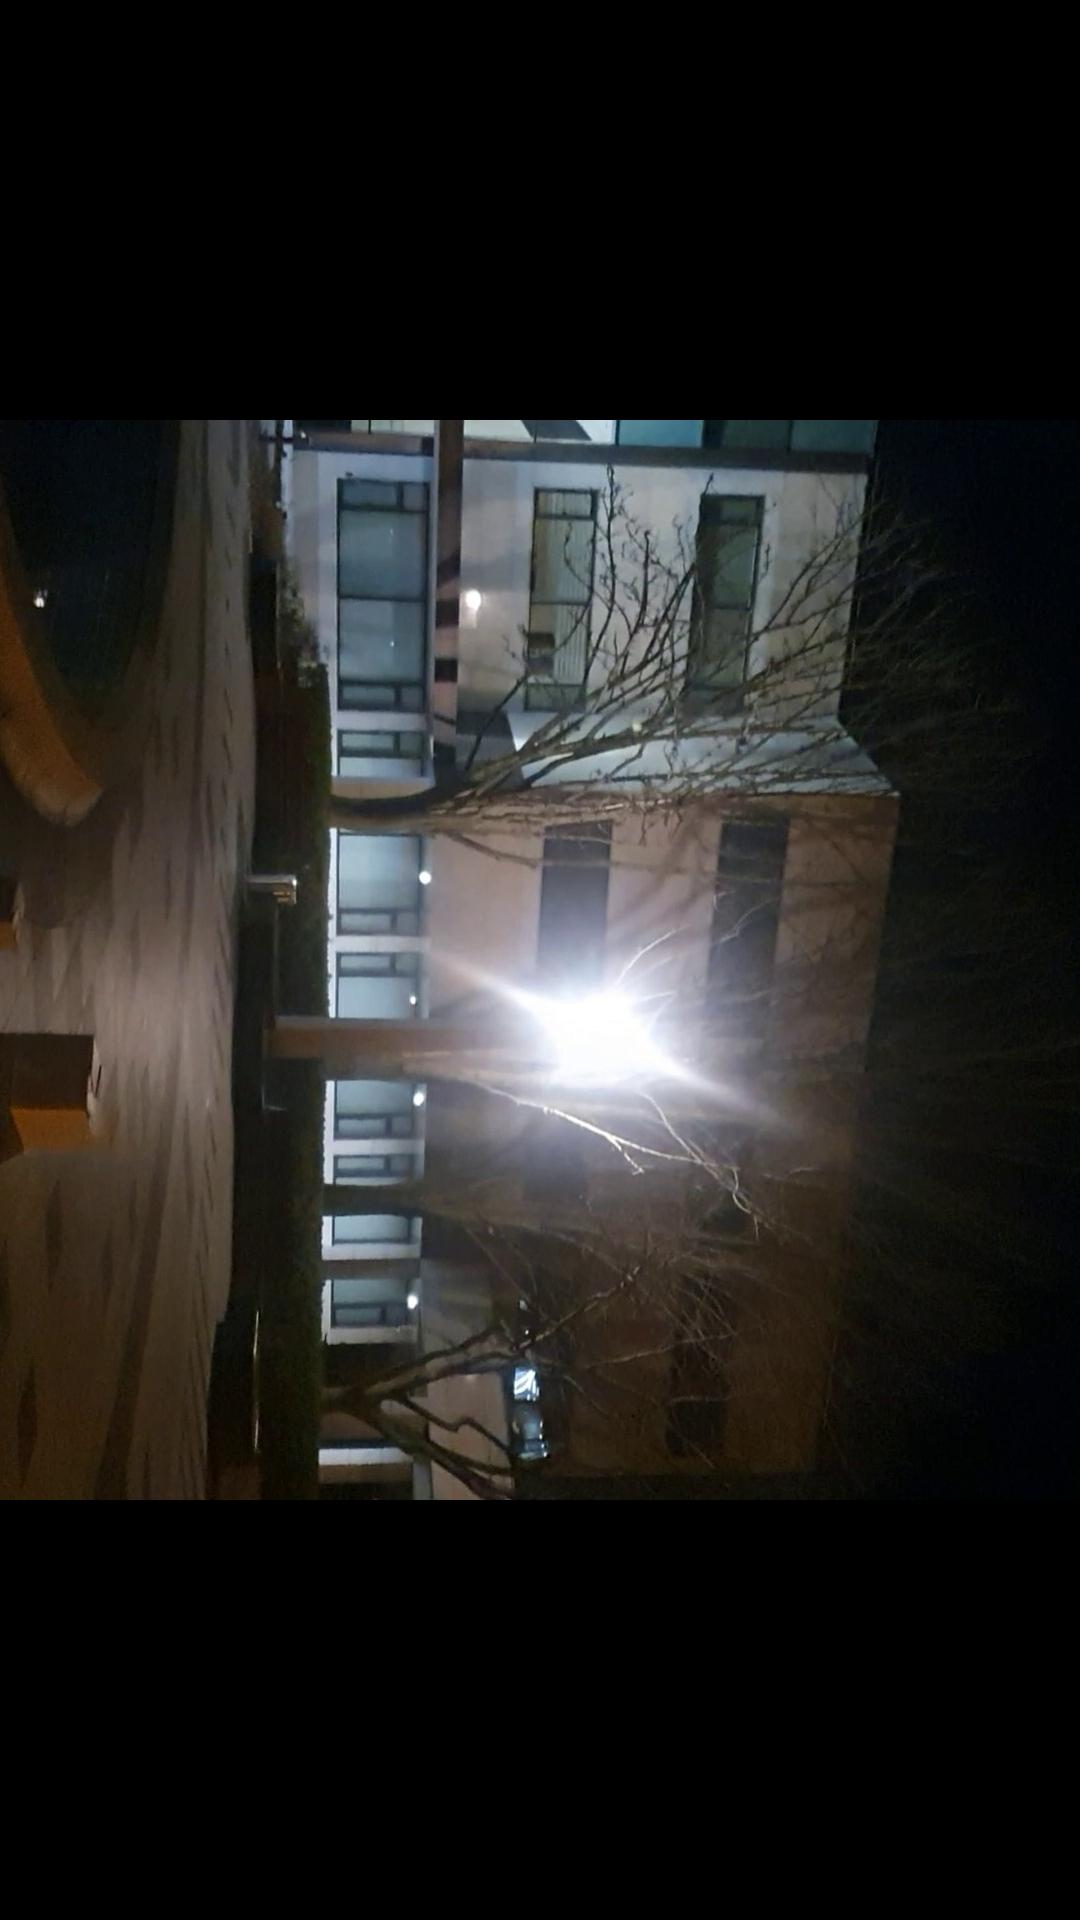Box: (0, 1018, 105, 1153), (0, 856, 26, 960)
